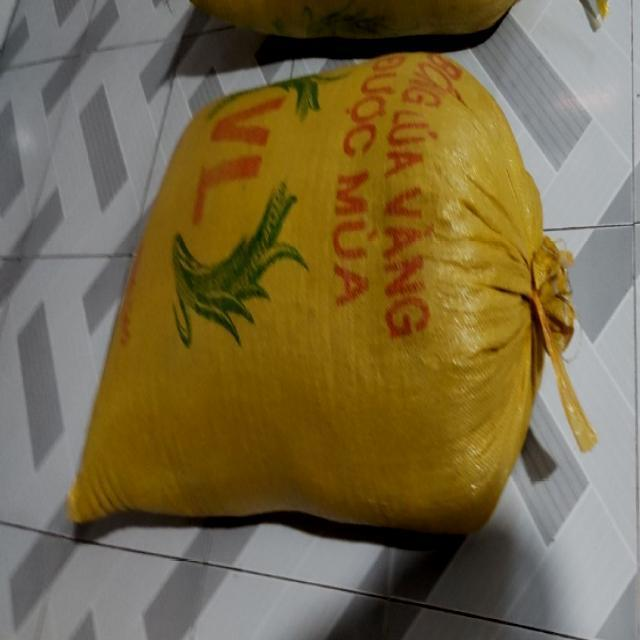gunny_bag: (67, 51, 597, 533)
